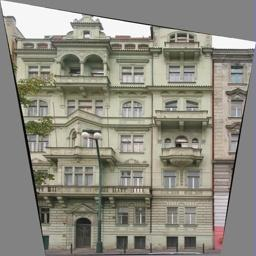building: (16, 7, 214, 256)
